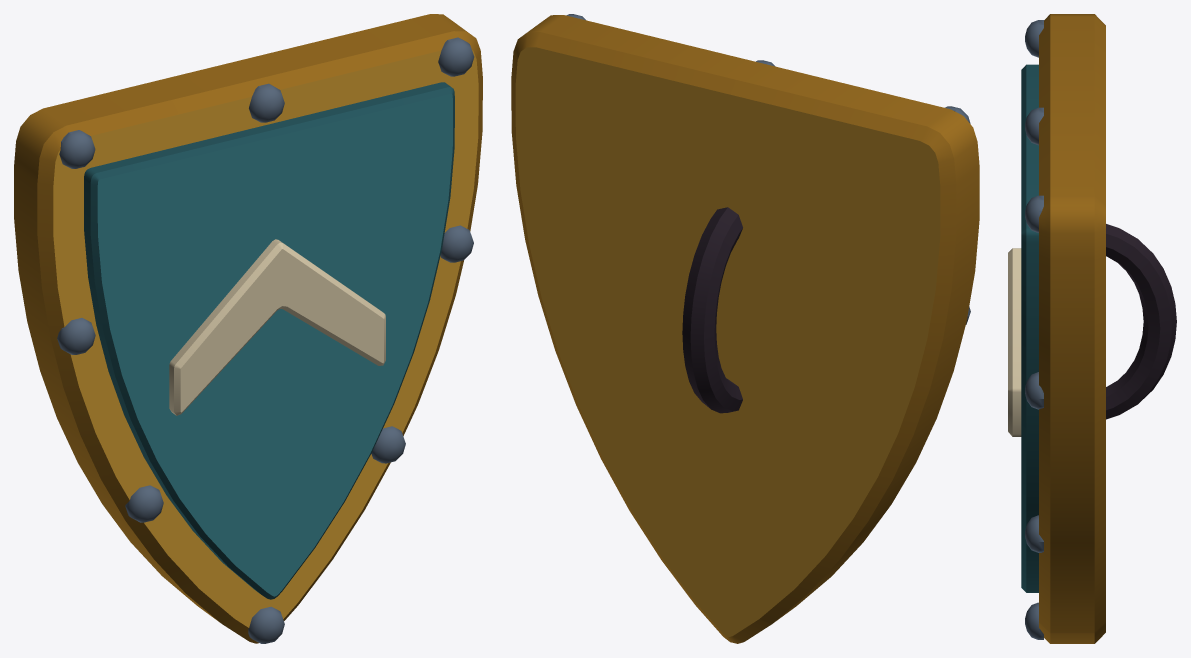
The model's file is HeaterShield_03.glb.
3 renders of one model, left to right at view 1: azimuth 30°, elevation 25°; view 2: azimuth 150°, elevation 25°; view 3: azimuth 270°, elevation 25°, orthographic. The views are drawn at different scales.
Visible parts, largest first — view 1: HeaterShield_03; view 2: HeaterShield_03; view 3: HeaterShield_03.
Boxes of the visible parts, x1,y1,x2,y2 form: HeaterShield_03: (14, 14, 482, 643); HeaterShield_03: (511, 14, 979, 643); HeaterShield_03: (1008, 14, 1176, 643).
Size of the model in its own units: 2.2 by 2.66 by 0.76.
